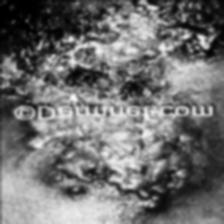Toxin: (0, 1, 220, 206)
